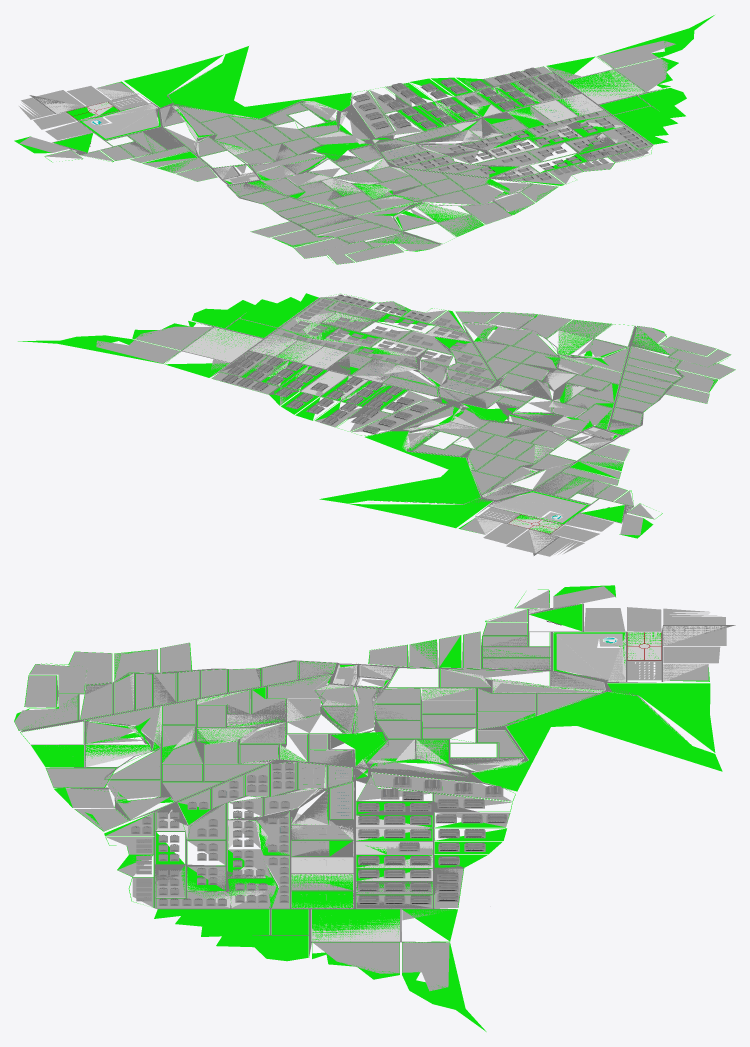
File: Industri1.glb
The picture shows the model from 3 angles, top to bottom: view 1: azimuth 30°, elevation 25°; view 2: azimuth 150°, elevation 25°; view 3: azimuth 270°, elevation 25°; orthographic projection. The views are drawn at different scales.
Visible parts, largest first — view 1: Model_Zonasi_Clean; view 2: Model_Zonasi_Clean; view 3: Model_Zonasi_Clean.
Part boxes in pixels (<box>): Model_Zonasi_Clean: <box>14,15,714,264</box>; Model_Zonasi_Clean: <box>18,293,735,556</box>; Model_Zonasi_Clean: <box>14,585,735,1031</box>.
Bounding box in the file's own units: 3 × 0.011 × 2.05.
31 materials, 5 textured.
